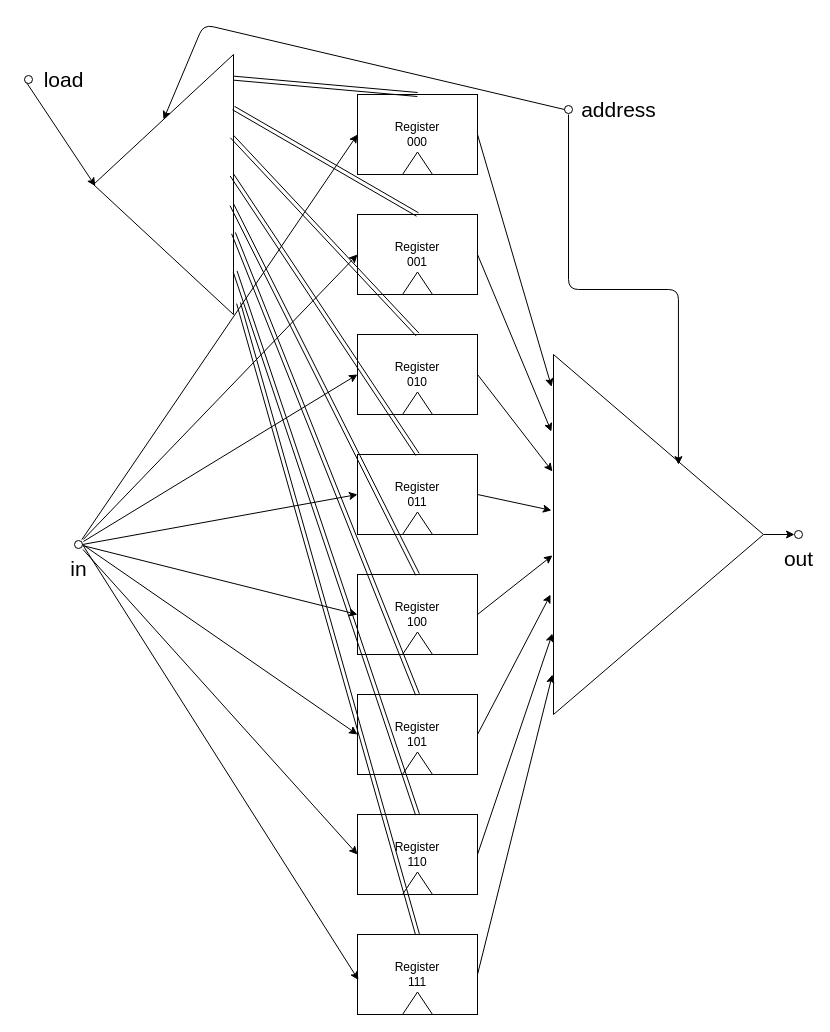
This 830x1032 diagram has some shape labels left out. The centre of each missing label's shape, as x and y in pixels:
"DMux8Way" goes at point 163,184.
"Mux8Way16" goes at point 658,534.
